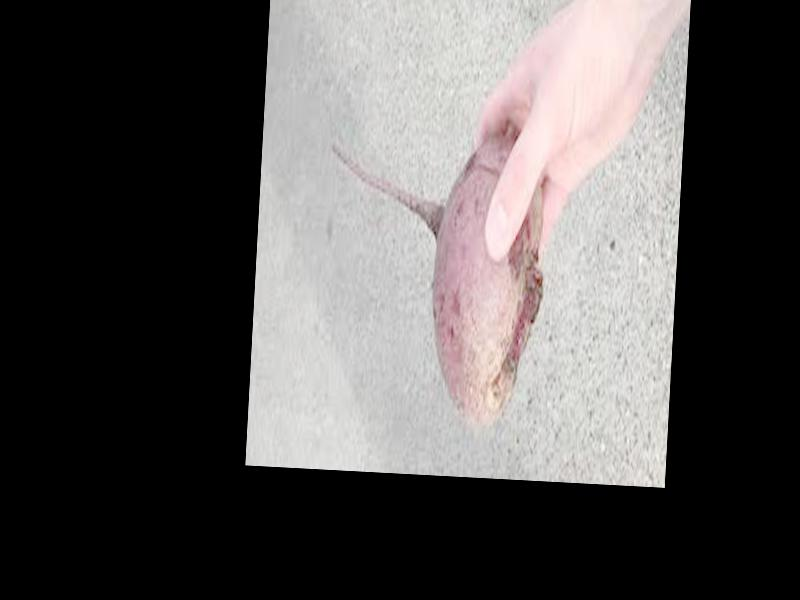Beet: (318, 133, 550, 427)
